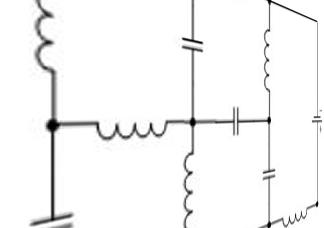inductor: (75, 110, 168, 151), (31, 0, 69, 74), (250, 20, 284, 98), (176, 143, 204, 226), (277, 200, 307, 226)
